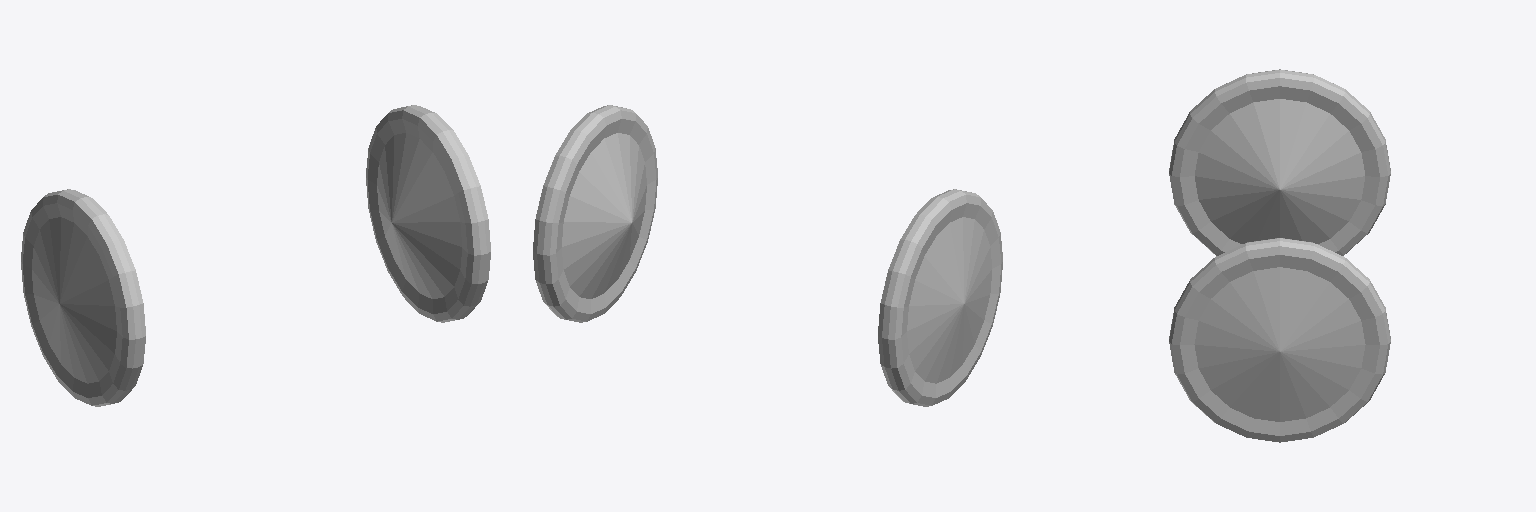
Rendered from MainWheelTest.obj.
3 views of the same model, side by side, from view 1: azimuth 30°, elevation 25°; view 2: azimuth 150°, elevation 25°; view 3: azimuth 270°, elevation 25° (orthographic).
Visible parts, largest first — view 1: Spowith_f1_camel_Roda_, Spowith_f1_camel_Roda; view 2: Spowith_f1_camel_Roda_, Spowith_f1_camel_Roda; view 3: Spowith_f1_camel_Roda_, Spowith_f1_camel_Roda.
Part boxes in pixels (left/top/right/bottom): Spowith_f1_camel_Roda_: left=366, top=105, right=490, bottom=322; Spowith_f1_camel_Roda: left=21, top=189, right=145, bottom=406; Spowith_f1_camel_Roda_: left=533, top=105, right=657, bottom=322; Spowith_f1_camel_Roda: left=878, top=189, right=1002, bottom=406; Spowith_f1_camel_Roda_: left=1169, top=238, right=1390, bottom=442; Spowith_f1_camel_Roda: left=1169, top=69, right=1390, bottom=255.
Size of the model in its own units: 119 by 58.04 by 58.04.